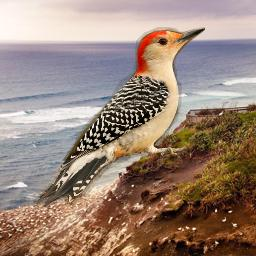Woodpecker: (34, 27, 205, 210)
